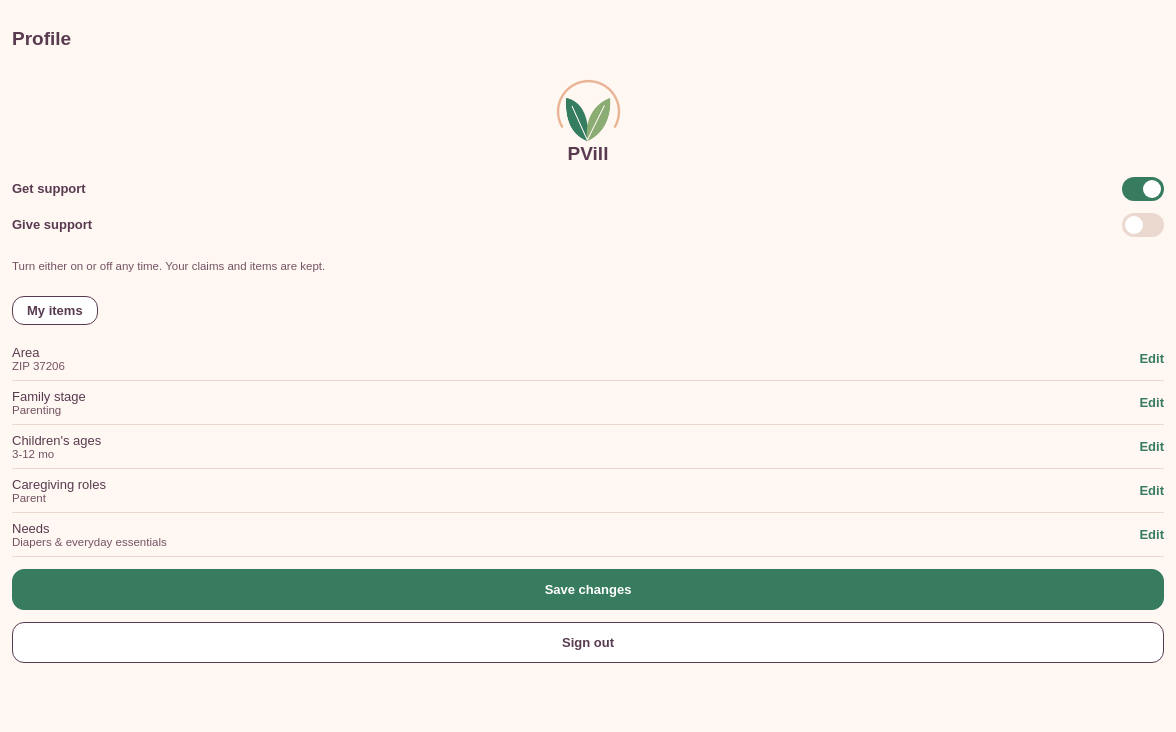
ProfilePage (person) › opens the answer the server refused
Click the button "Save changes" at (588, 589), box [12,568,1164,610]
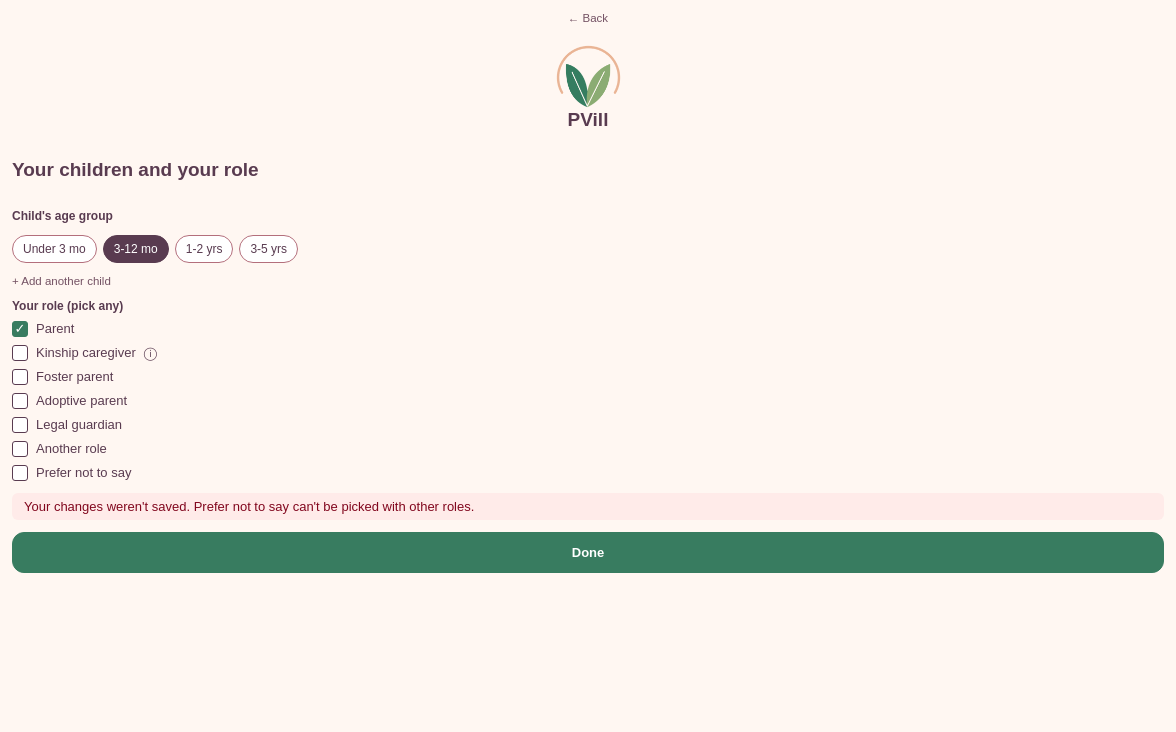
Result: the heading "Your children and your role" is shown at [12,159,259,180]
Result: the text "Prefer not to say can't be picked" is shown at [24,499,474,514]
